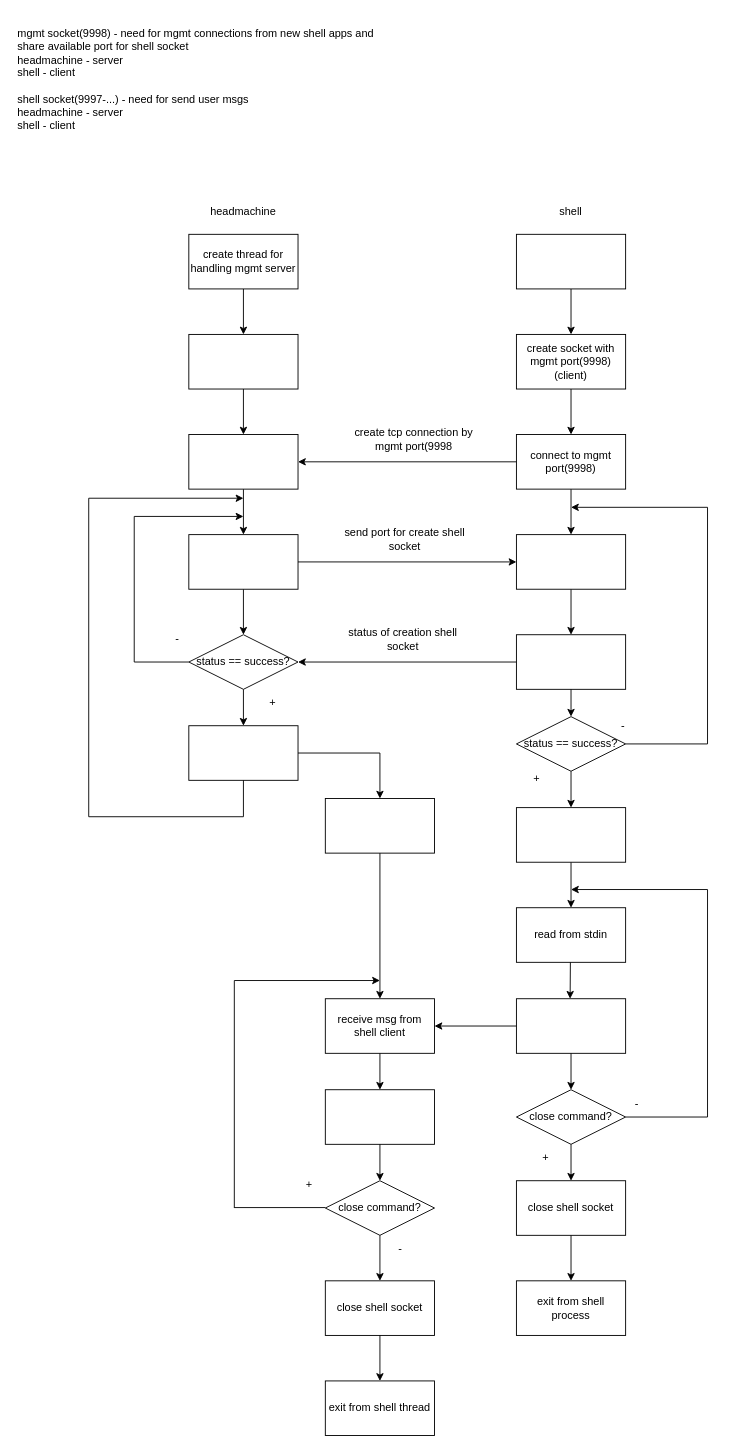
Image size: 731x1451. Some labels were removed from this diagram. Here are the shapes that lost their labels. From the top down, the centre of each, then its label:
At pixel 571 261: "main".
At pixel 243 361: "create tcp socket with mgmt port(9998) (server)".
At pixel 243 461: "listen/accept mgmt socket (9998)".
At pixel 243 561: "find and send available port for shell socket".
At pixel 571 561: "receive port for new shell socket".
At pixel 571 661: "send message if socket created".
At pixel 243 752: "create thread for shell server".
At pixel 379 825: "main thread shell server by shell port".
At pixel 571 834: "close mgmt socket".
At pixel 571 1025: "send by shell socket".
At pixel 379 1116: "execute command".
